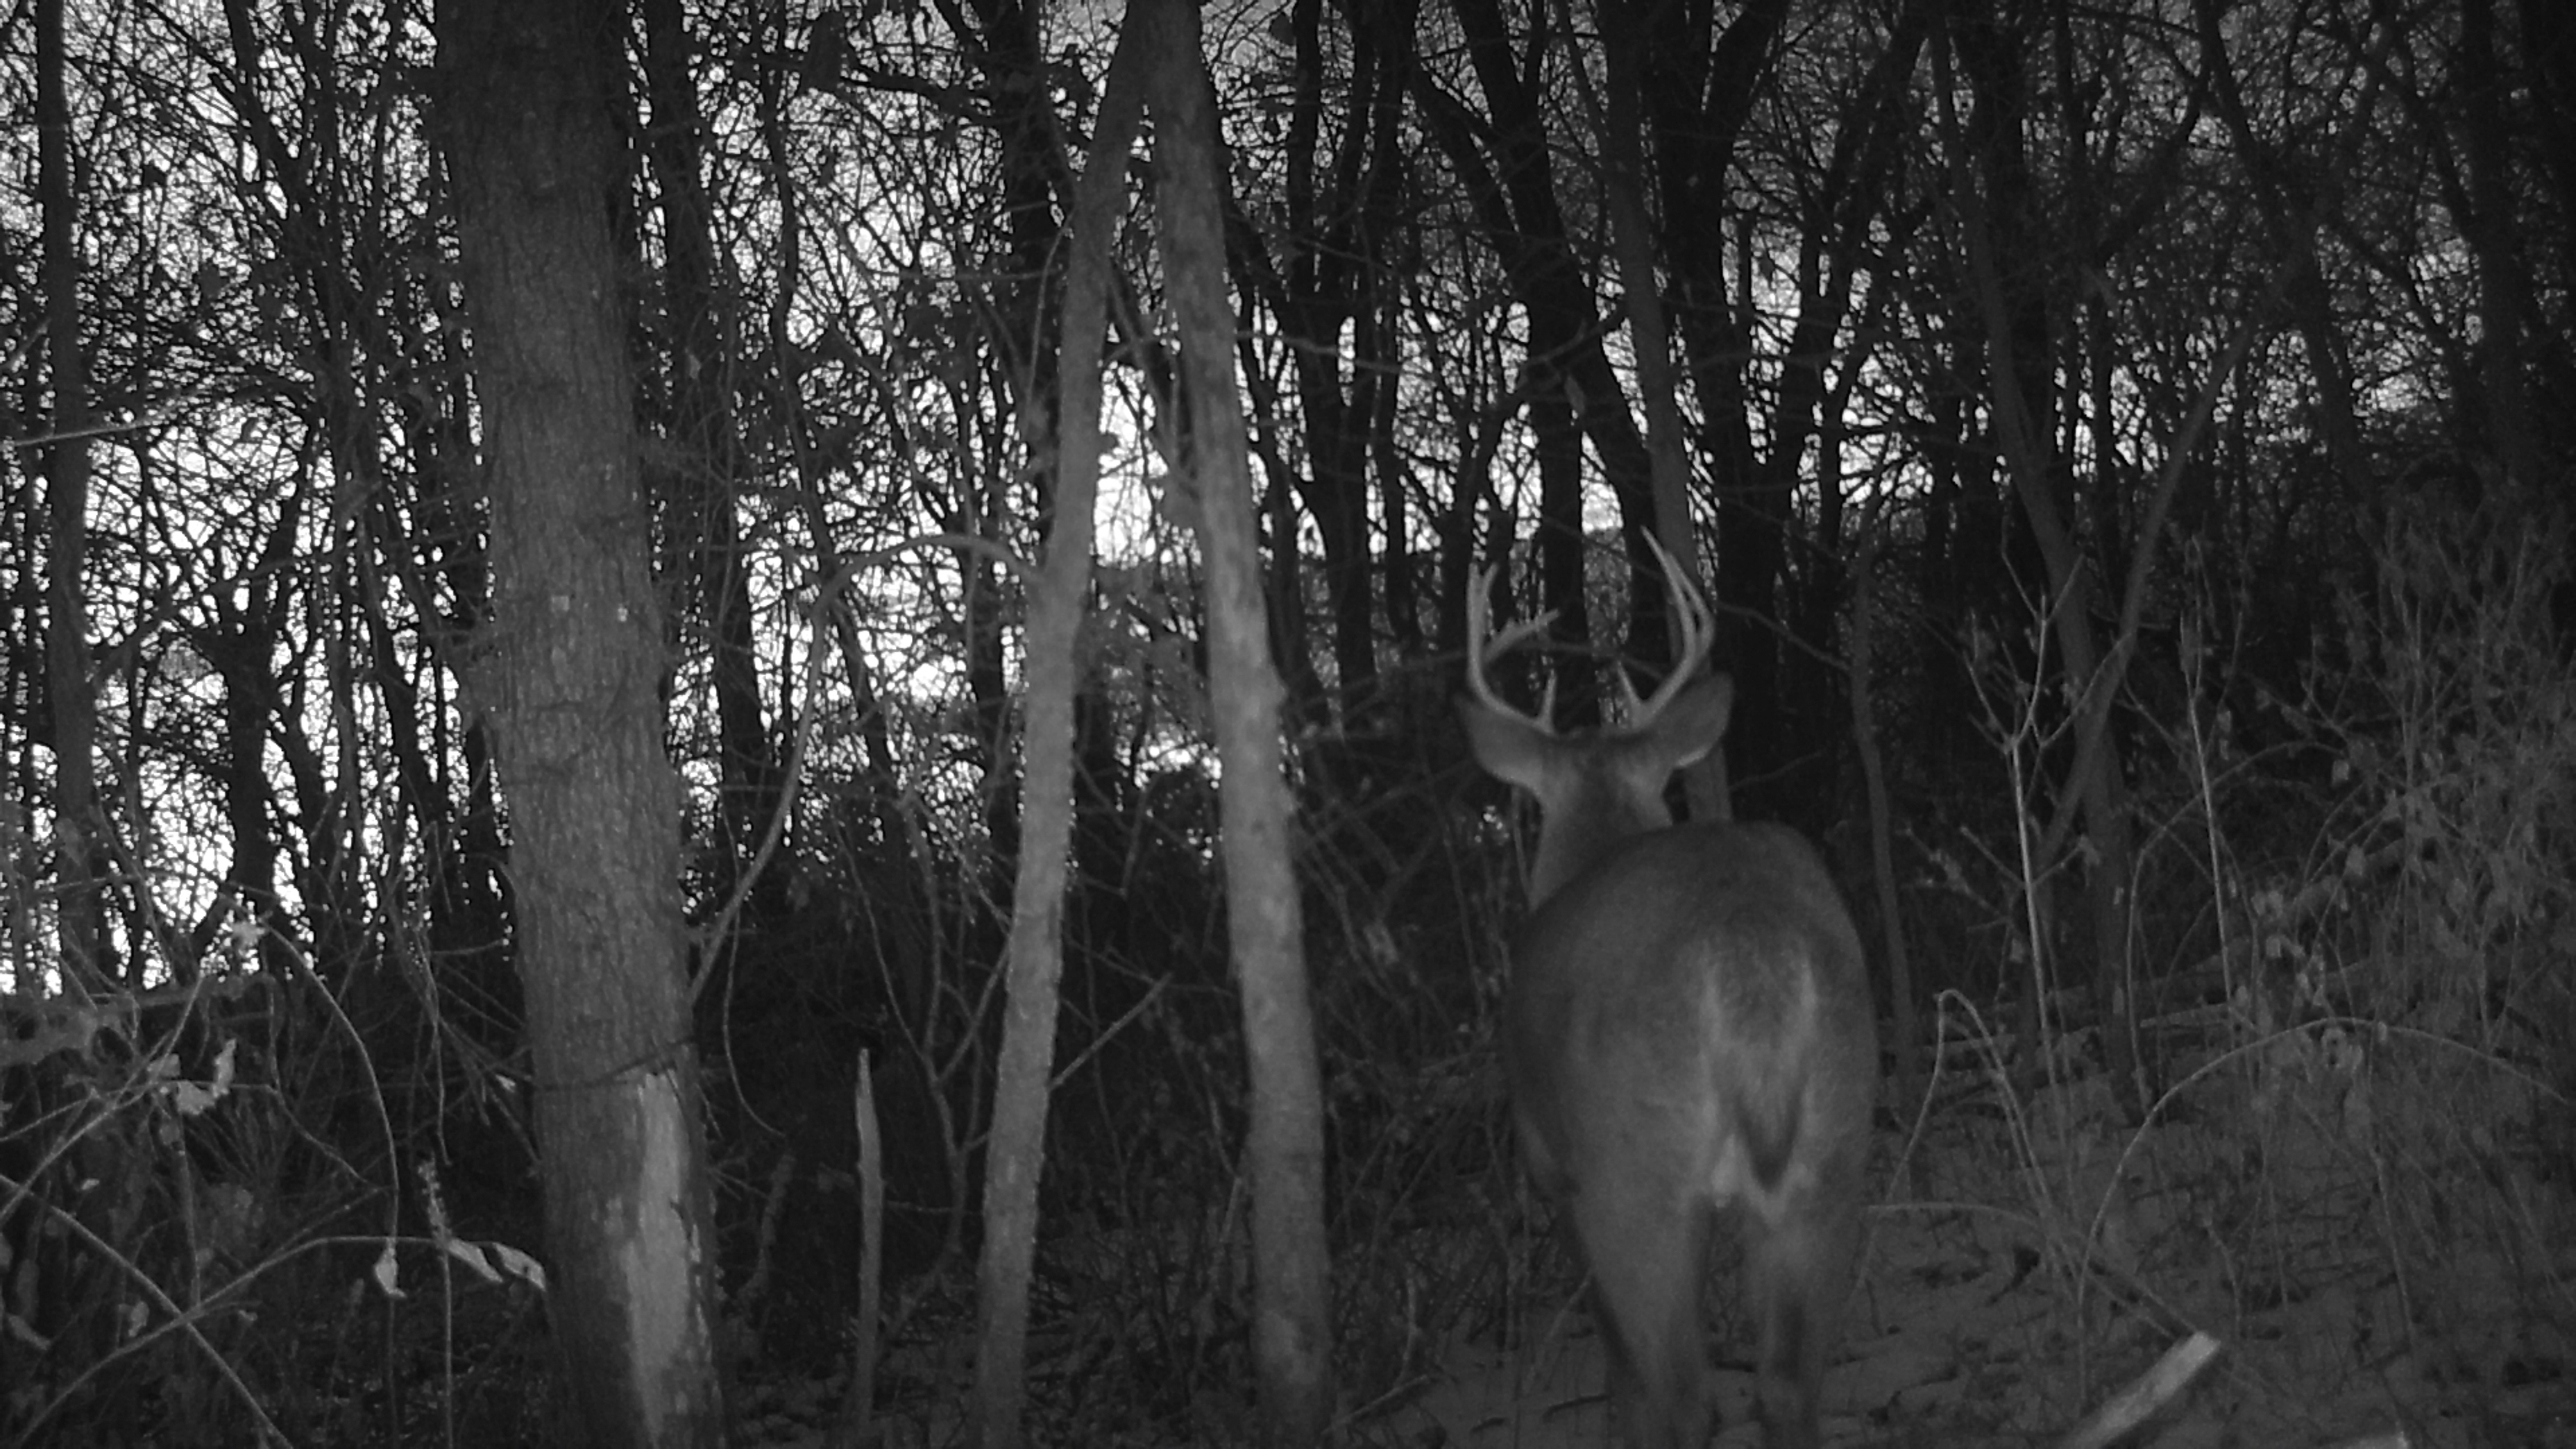DeerBuck: (1453, 522, 1883, 1441)
DeerBuckHead: (1454, 521, 1737, 797)
